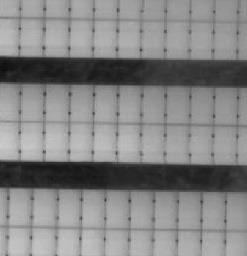solar: (54, 186, 84, 229), (78, 186, 108, 229), (102, 188, 132, 231), (127, 188, 157, 231), (151, 188, 181, 231), (174, 189, 204, 232), (199, 189, 229, 232), (16, 15, 46, 58), (42, 15, 72, 58), (65, 16, 95, 59), (90, 16, 120, 59), (114, 16, 144, 59), (137, 16, 167, 59), (162, 17, 192, 60), (186, 17, 216, 60), (210, 18, 240, 61), (17, 81, 47, 122), (42, 81, 72, 122), (65, 81, 95, 122), (90, 82, 120, 123), (115, 82, 145, 123), (138, 83, 168, 124), (162, 83, 192, 124), (187, 84, 217, 125), (210, 85, 240, 126), (16, 121, 46, 162), (41, 121, 71, 162), (66, 121, 96, 162), (89, 121, 119, 162), (114, 122, 144, 163), (137, 122, 167, 163), (162, 122, 192, 163), (185, 123, 215, 164), (210, 123, 240, 164), (5, 185, 35, 226), (30, 187, 60, 228)
